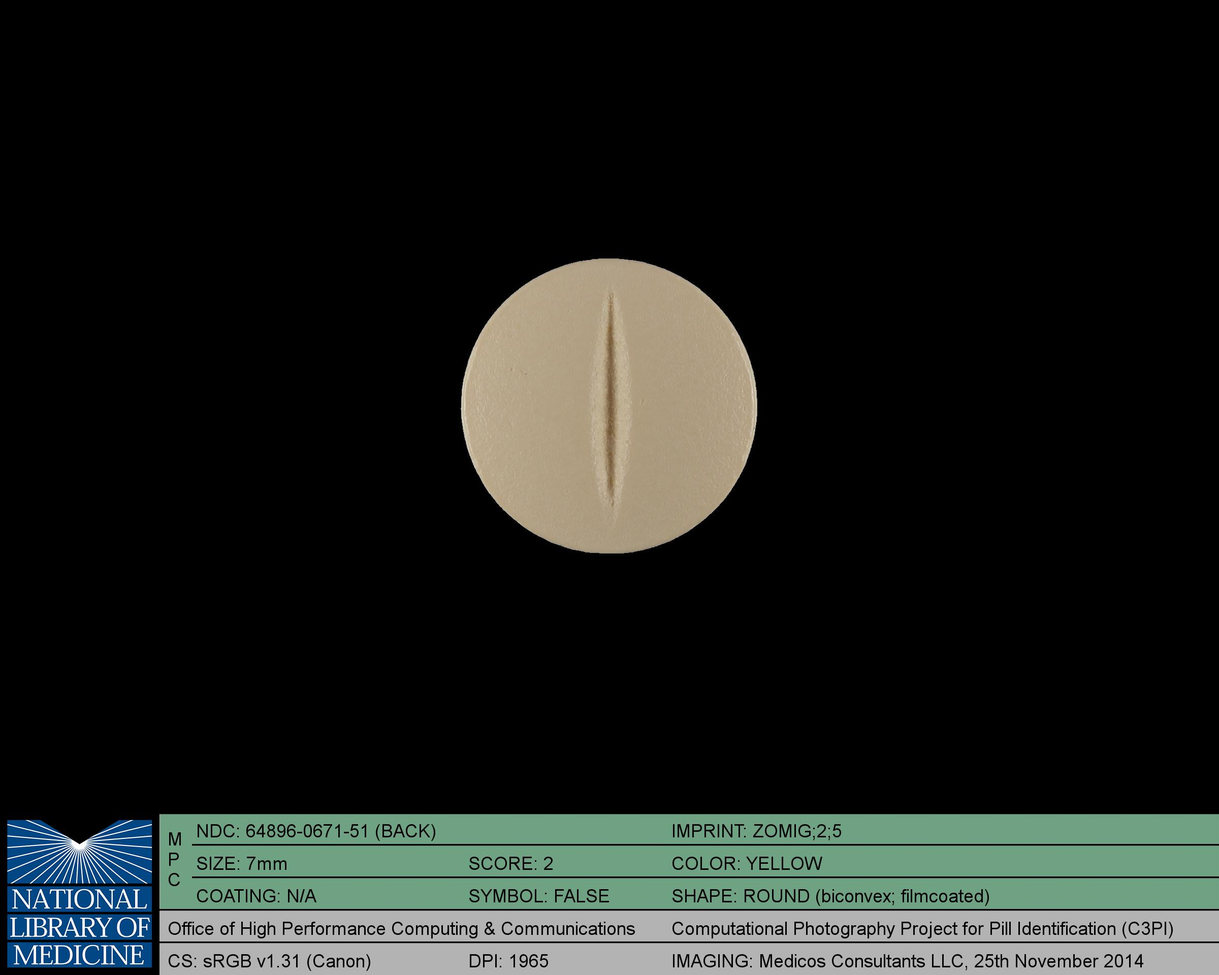Pill: (445, 242, 770, 565)
